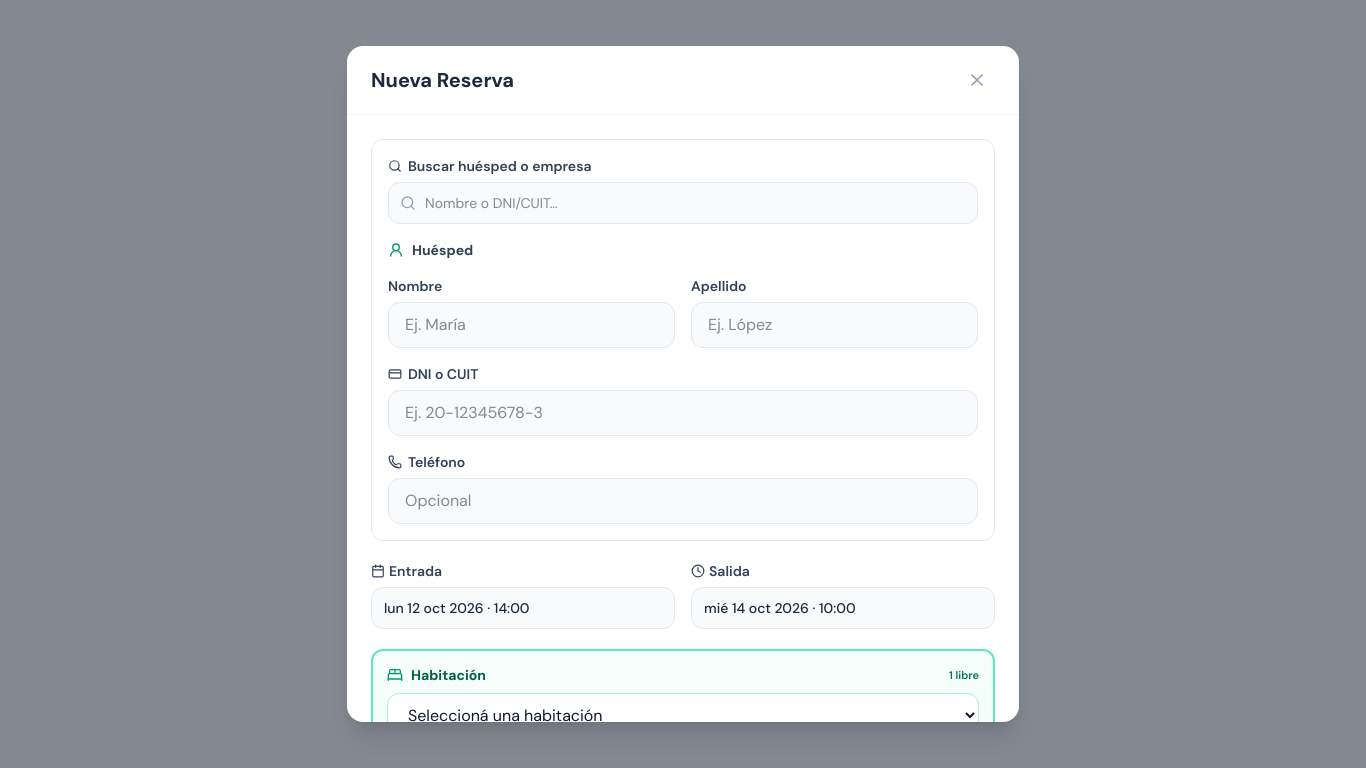
Test case: NewReservationModal: el aviso sigue a las fechas que están en pantalla › si con las fechas nuevas sigue ocupada, el aviso dice las fechas nuevas y no las viejas
Click the button named "Salida".
click(843, 608)  # box [691,587,995,629]
(page scrolled)
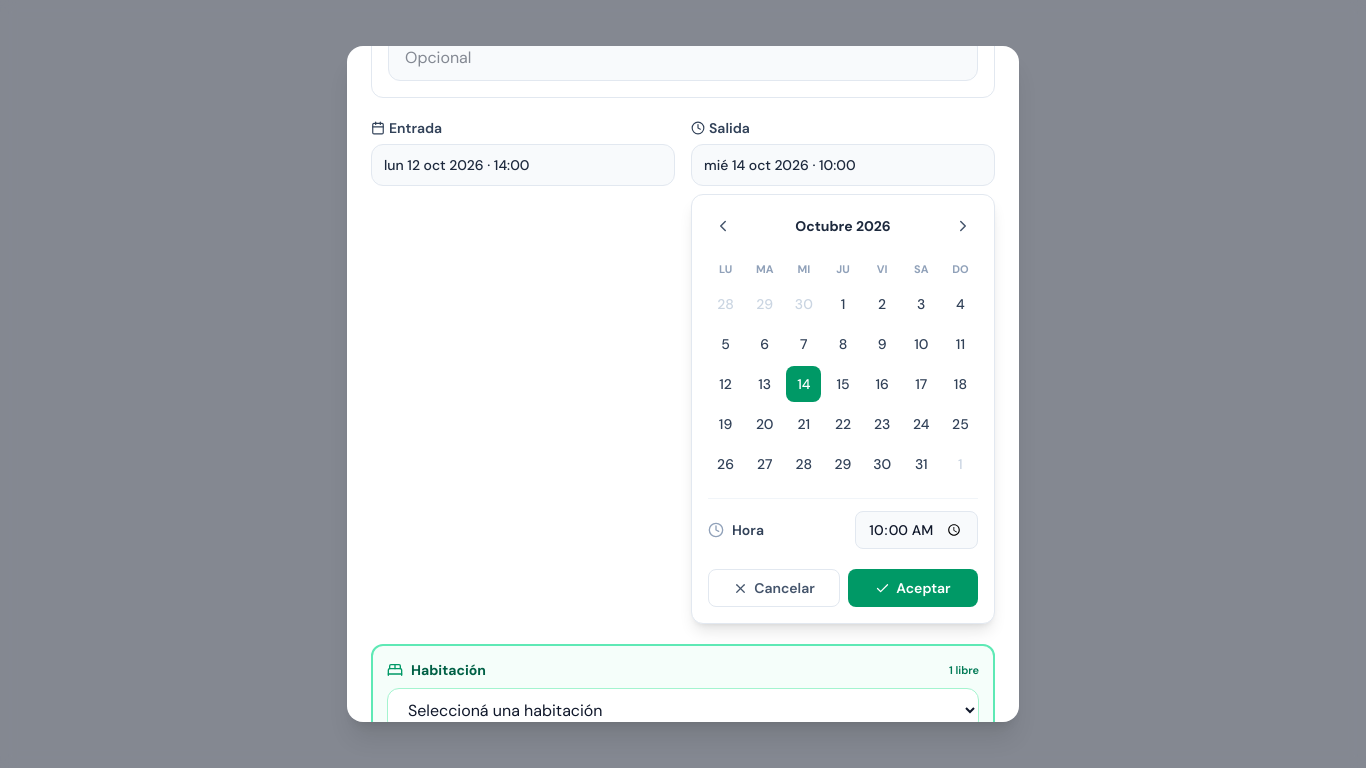
Click the button "16".
click(882, 384)  # box [865,366,900,402]
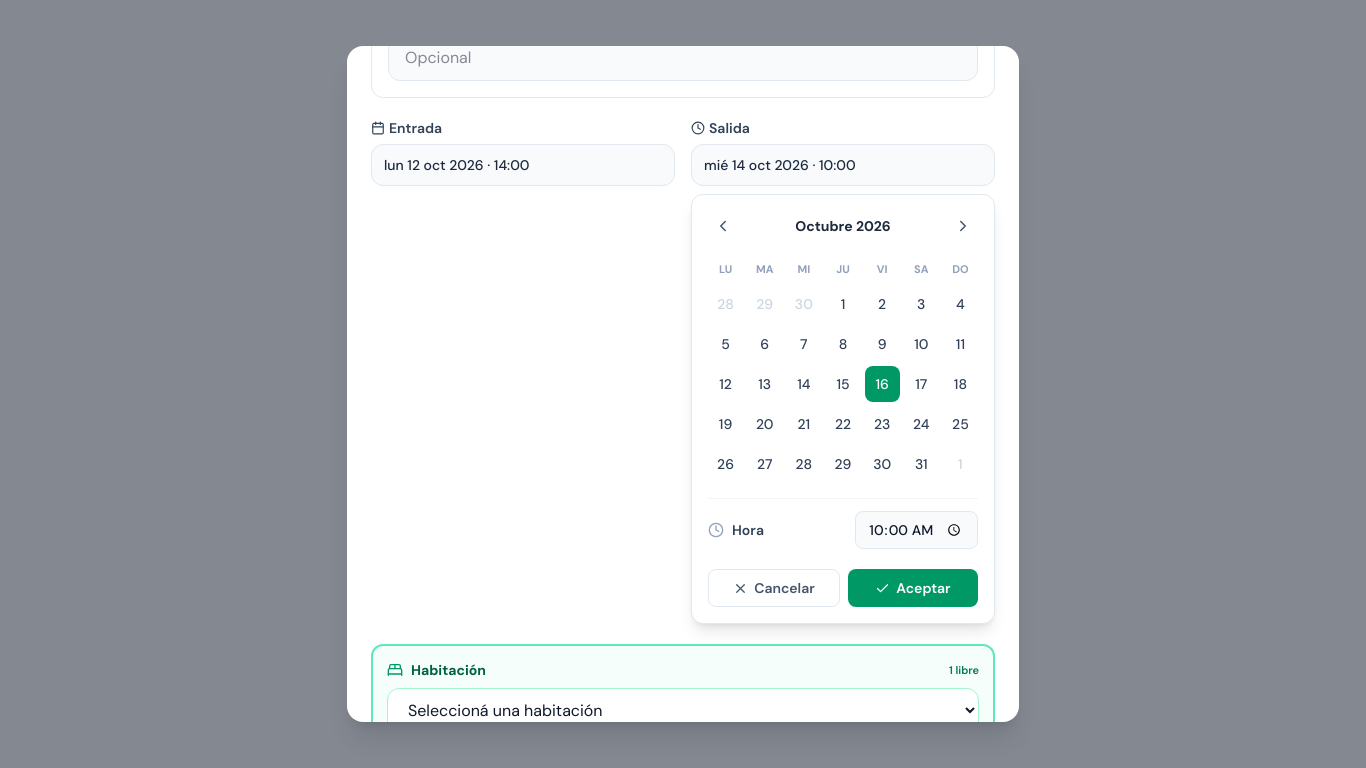
Click the button "Aceptar".
click(913, 588)  # box [848,569,978,607]
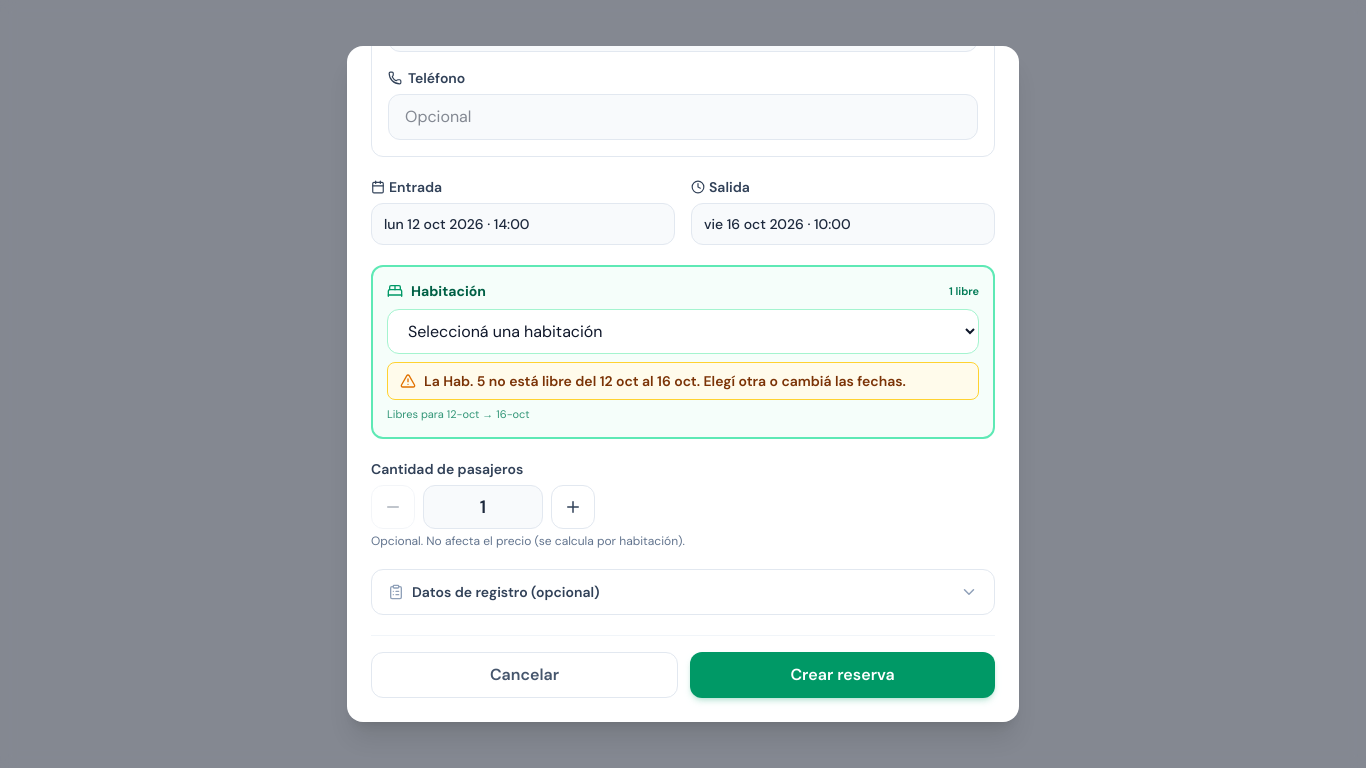
Check: the text "al 14 oct" is not shown
Check: the text "La Hab. 5 no está libre del 12 oct al 16 oct. Elegí otra o cambiá las fechas." is shown, box [424,371,906,391]
